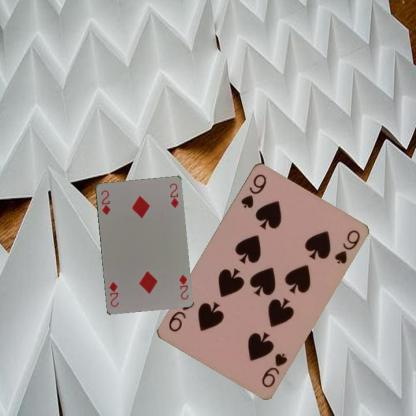2d: (176, 272, 190, 301), (98, 188, 112, 216)
9s: (236, 171, 268, 209), (259, 350, 289, 388)
